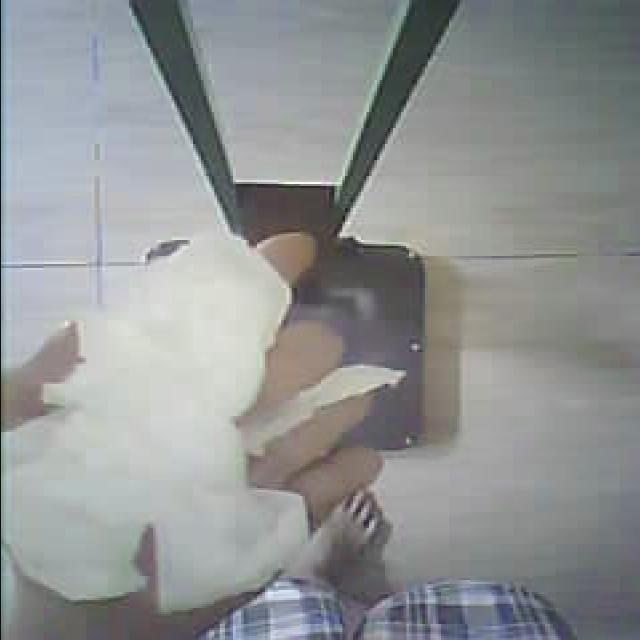Paper: (19, 237, 316, 610)
